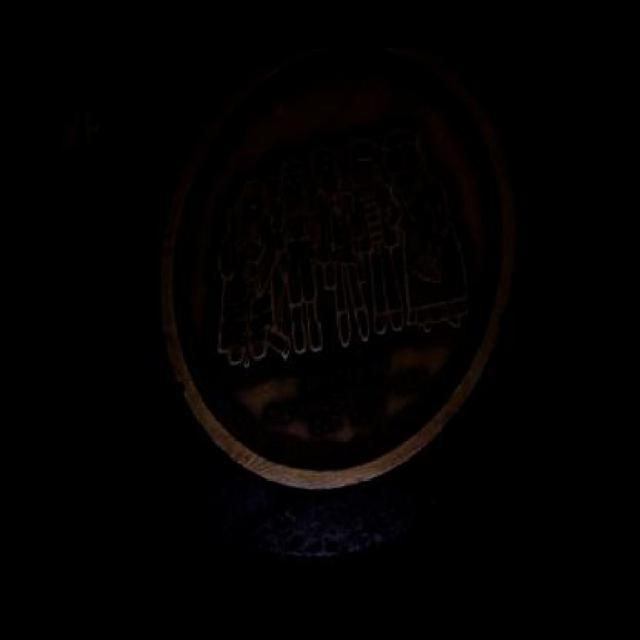Manhole: (79, 48, 548, 624)
